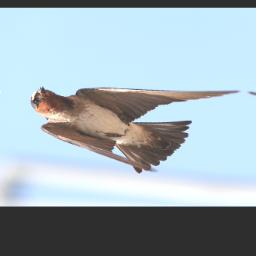Swallow: (12, 73, 242, 179)
